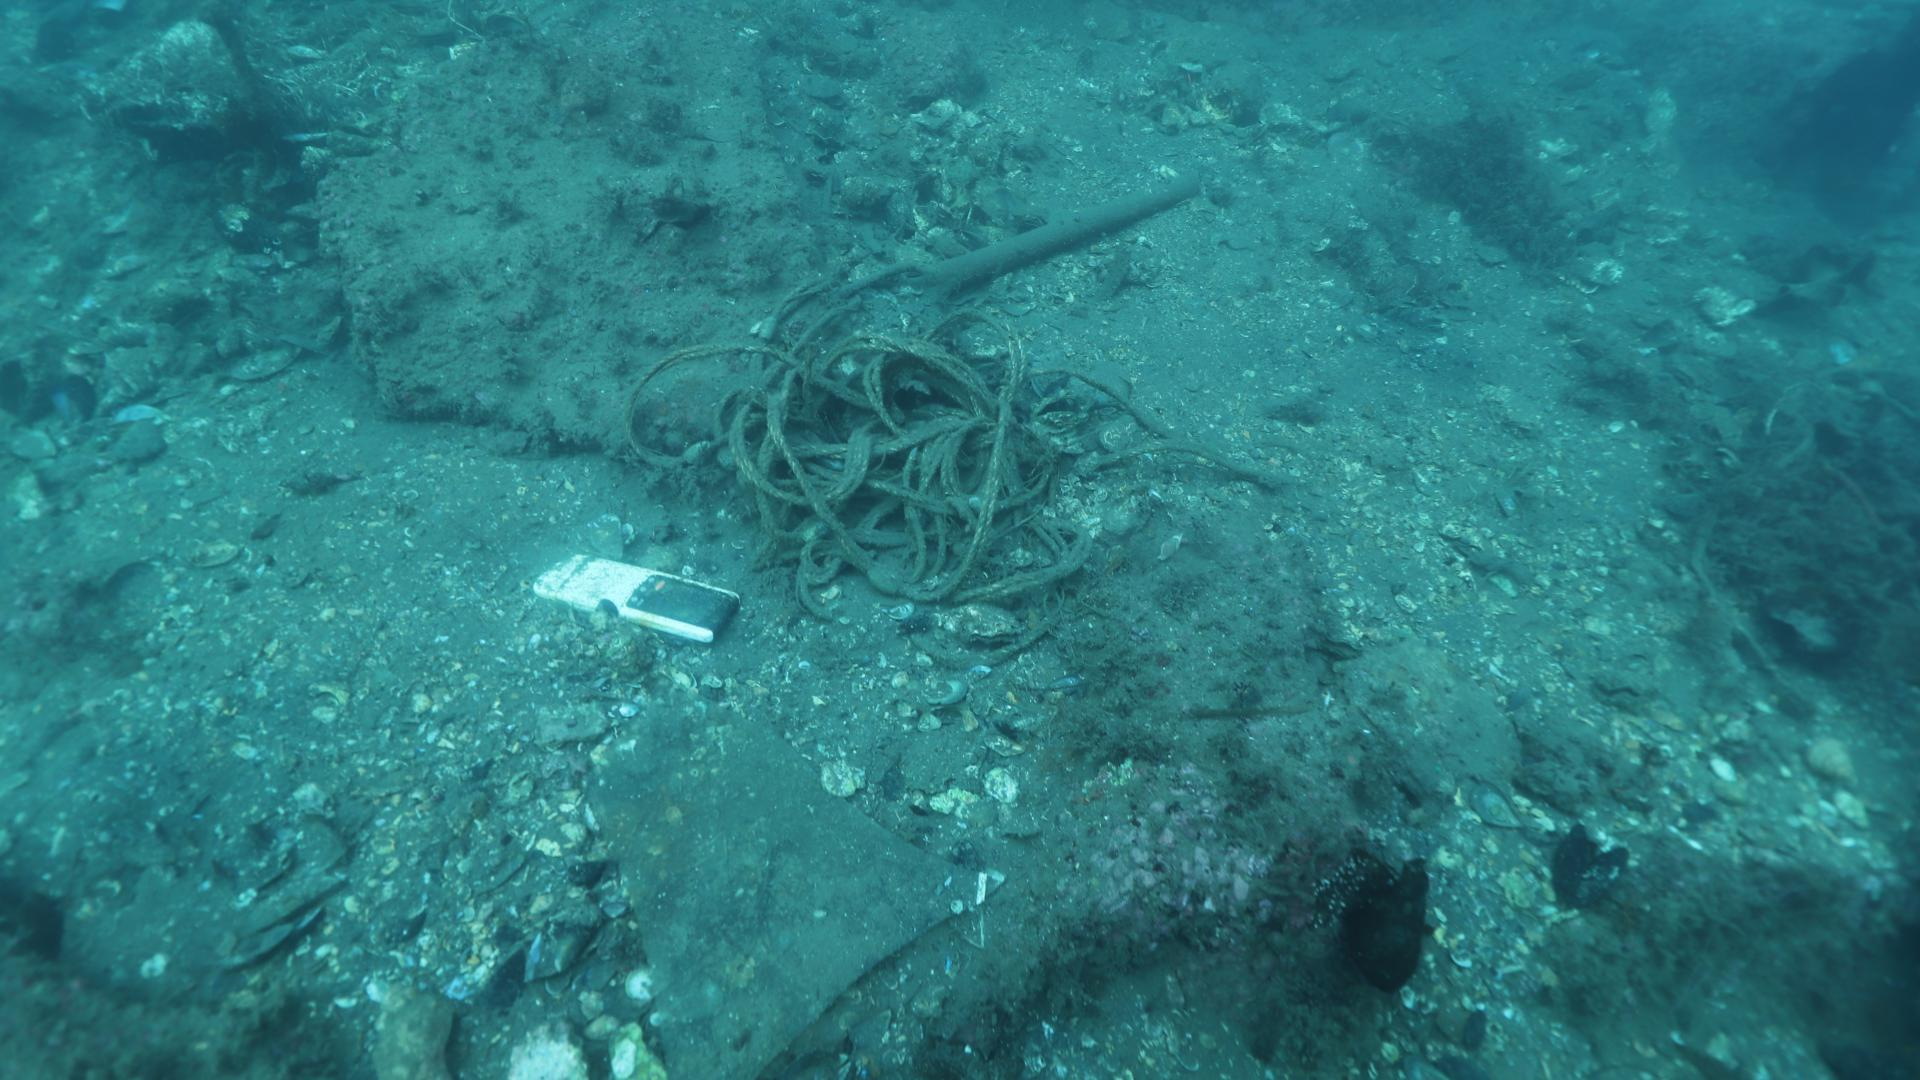bundle of ropes: (617, 264, 1286, 663)
